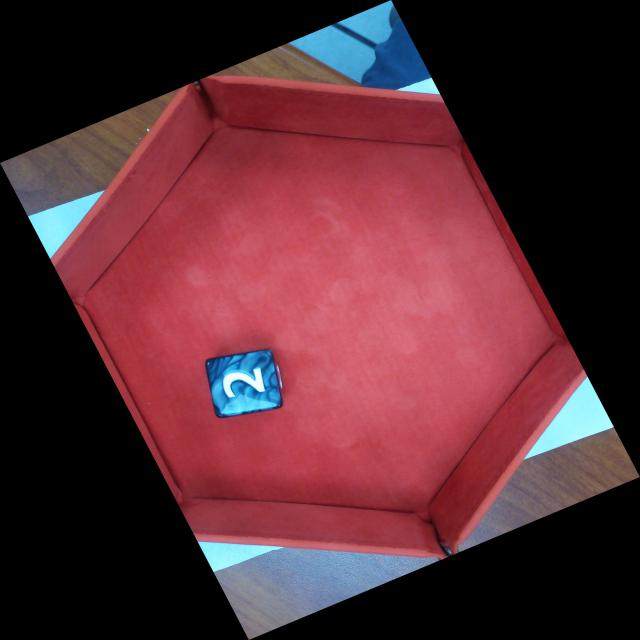dice: (210, 350, 288, 415)
